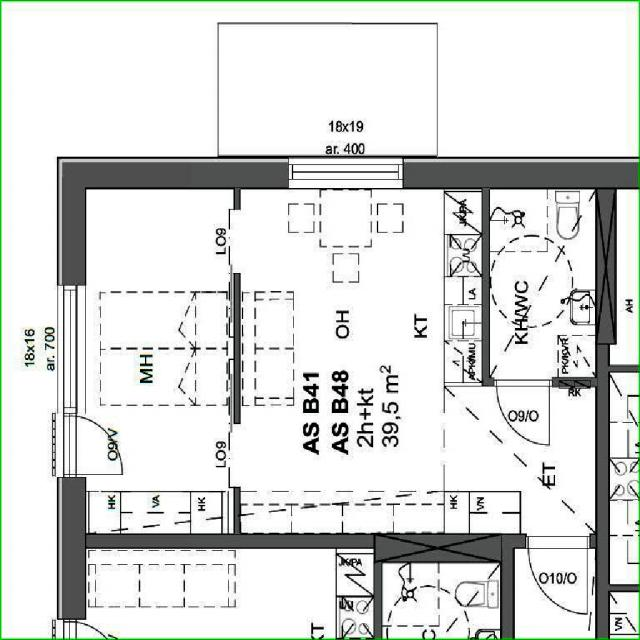door: (527, 534, 587, 614), (57, 416, 137, 474), (496, 377, 548, 445)
